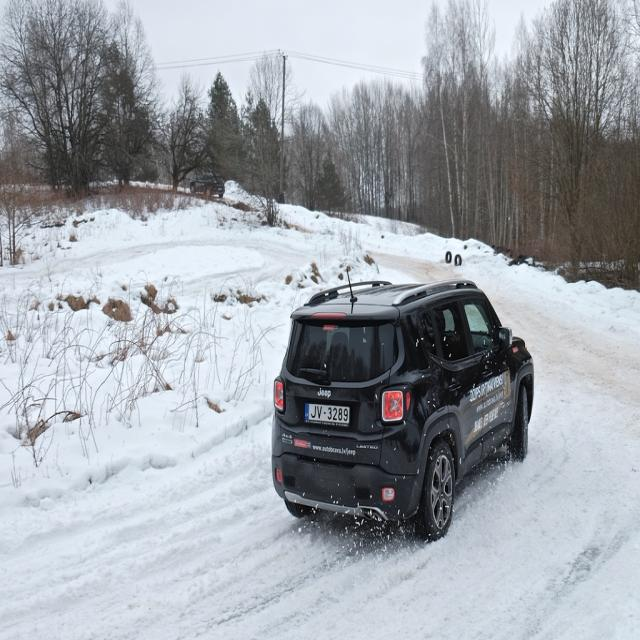car: (267, 266, 532, 540)
